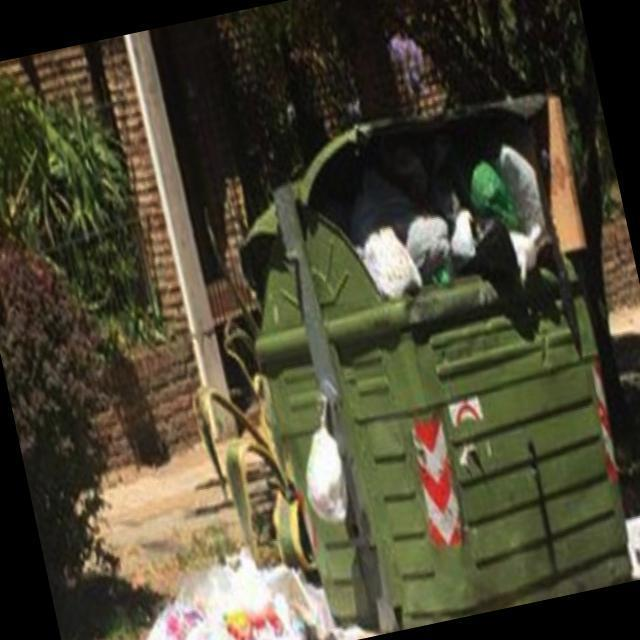garbage: (316, 104, 576, 298), (147, 547, 394, 640), (276, 370, 378, 559)
